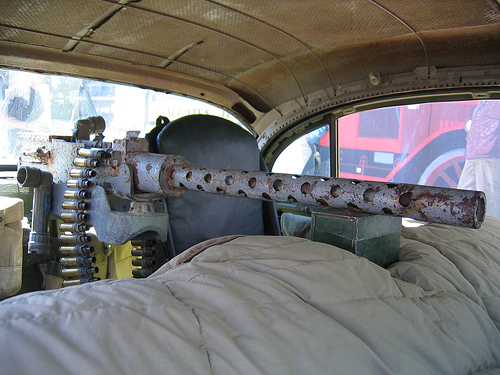rifle: (27, 111, 483, 292)
